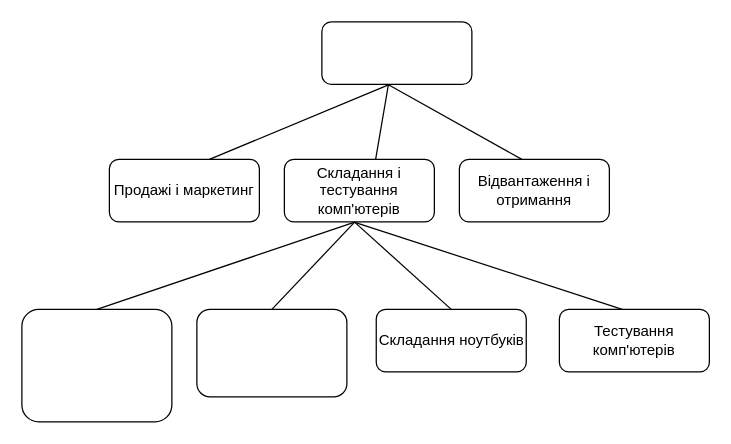
The diagram is 731 pixels wide and 444 high, and some of its shapes have lost their labels. The shapes that lost their labels are listed below. From the top down, each one's box as (x1, y1, x2, y2) in pixels, then its label:
(321, 21, 472, 84): Діяльність організації
(21, 308, 172, 422): Відслідковування розкладу і управління складанням і тестуванням
(196, 308, 347, 397): Складання настільних комп'ютерів
